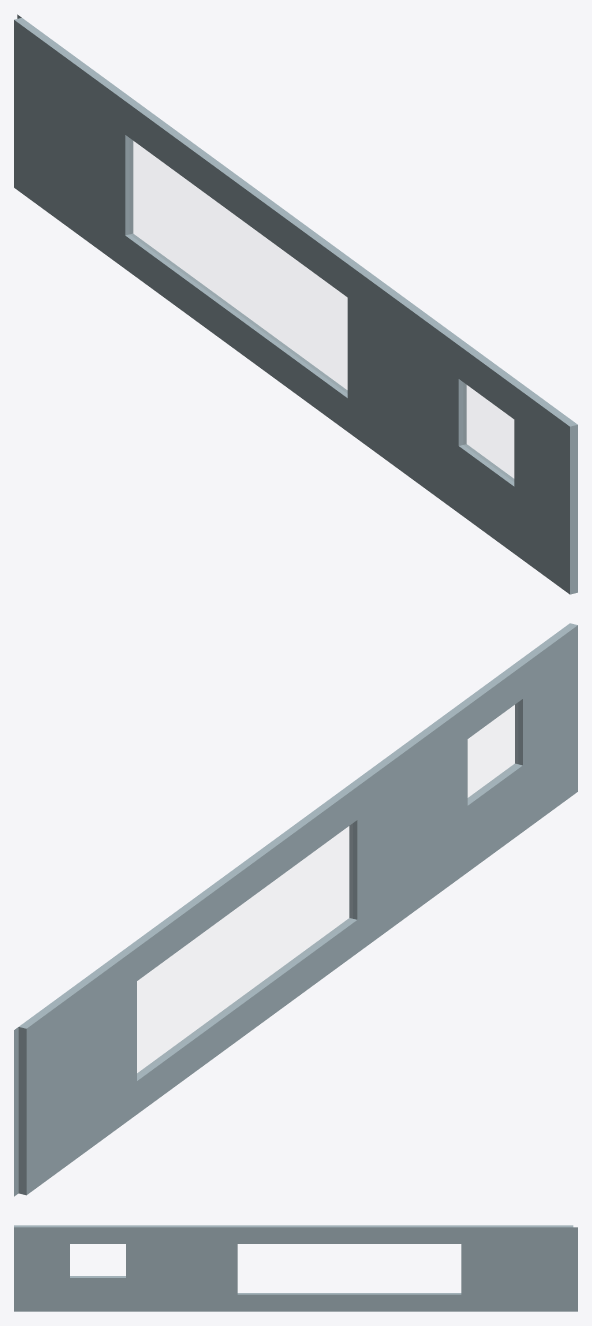
File: wall_left.gltf
3 views of the same model, one above another, from view 1: azimuth 30°, elevation 25°; view 2: azimuth 150°, elevation 25°; view 3: azimuth 270°, elevation 25° (orthographic). The views are drawn at different scales.
Parts seen in each view (by area): view 1: wall; view 2: wall; view 3: wall.
Boxes of the visible parts, x1,y1,x2,y2 form: wall: (14, 14, 577, 594); wall: (14, 623, 577, 1196); wall: (14, 1225, 577, 1311).
Bounding box in the file's own units: 2 × 40 × 242.
